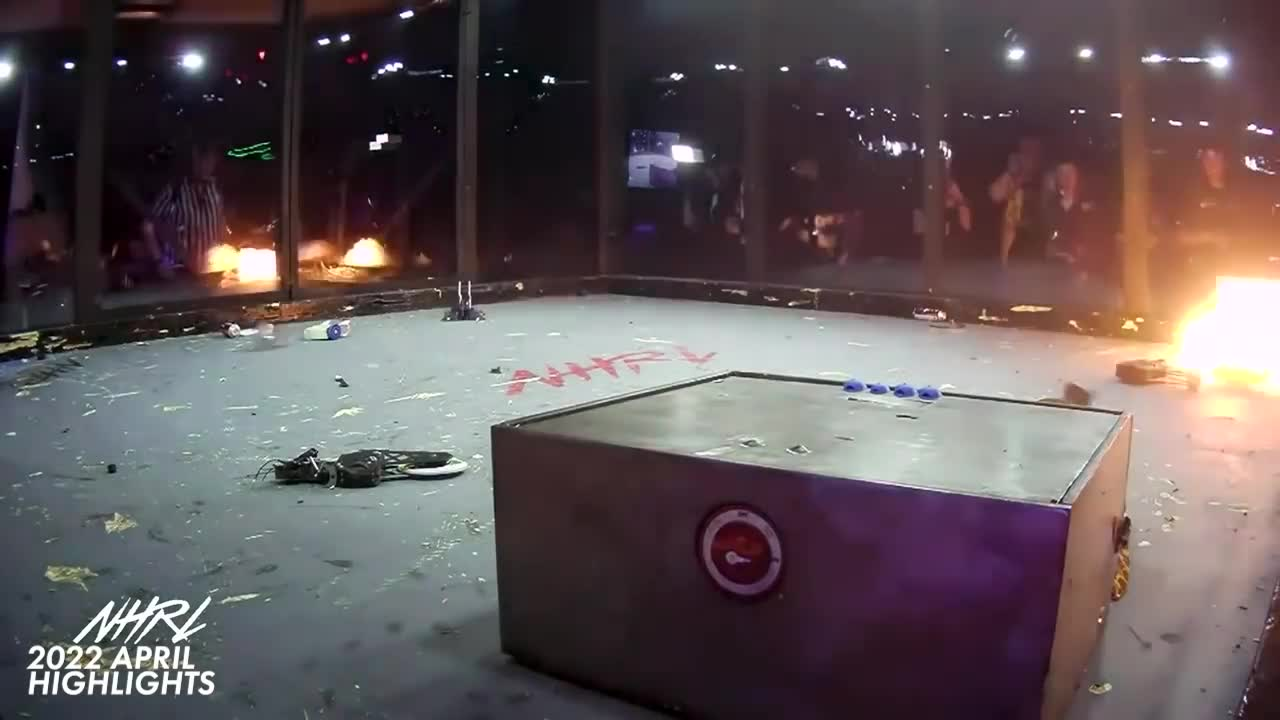combatbot: (250, 447, 467, 490), (1109, 348, 1232, 395), (443, 283, 490, 322), (301, 318, 353, 342)
housebot: (486, 373, 1124, 720)
